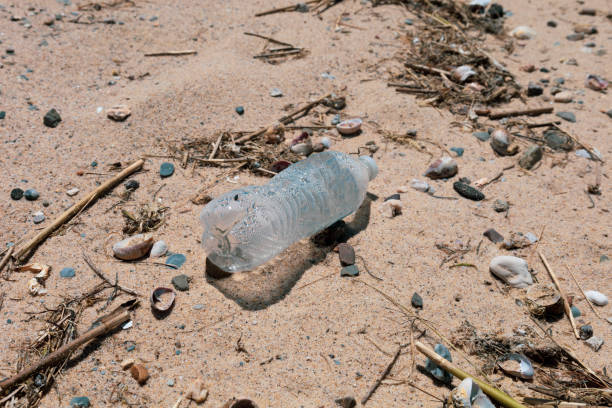General waste: (390, 9, 568, 157), (392, 300, 595, 408), (4, 144, 154, 275), (8, 289, 139, 408), (235, 0, 332, 80)
plastic: (188, 130, 397, 295)
